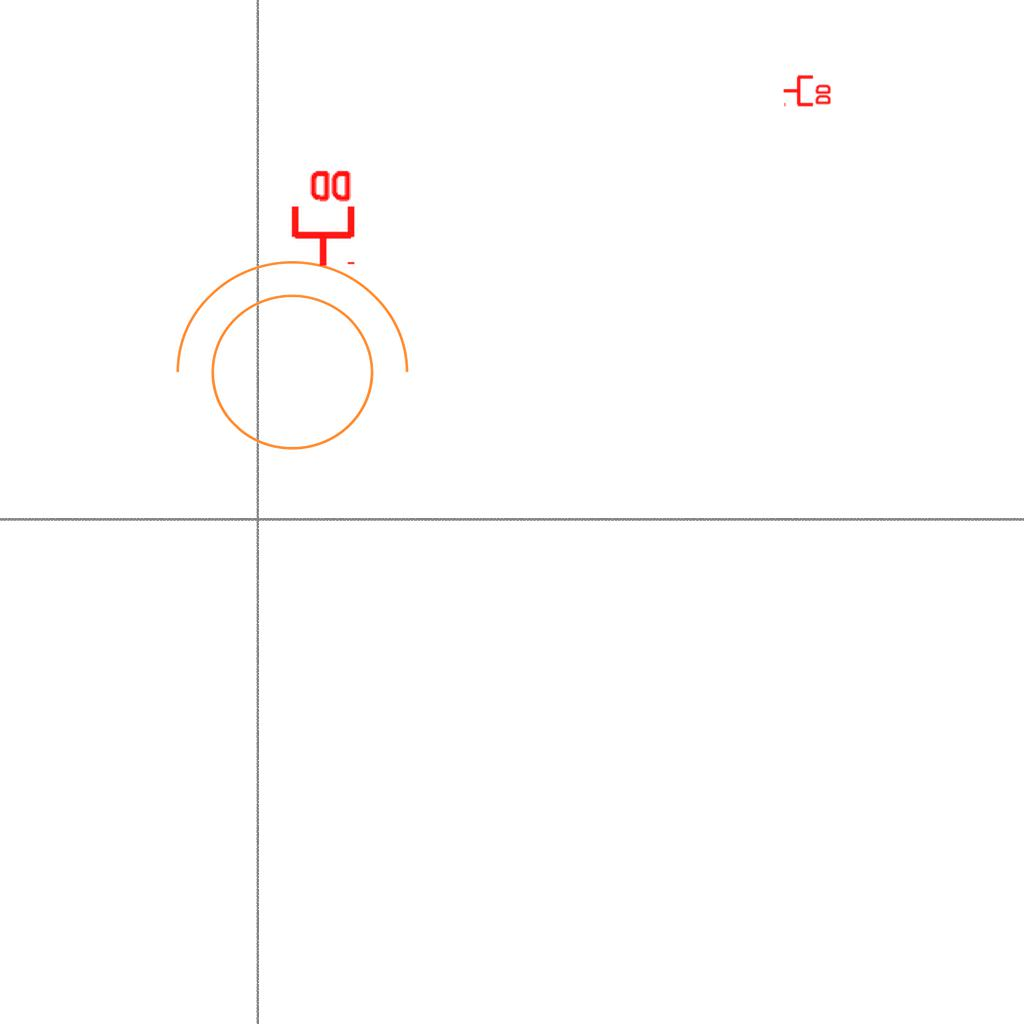Datenanschluss_zweifach: (287, 166, 356, 269), (782, 73, 833, 107)
Scheinwerfer_fuer_Alarmbeleuchtung: (154, 250, 418, 475)
